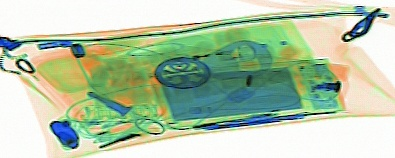lighter: (169, 43, 237, 72)
